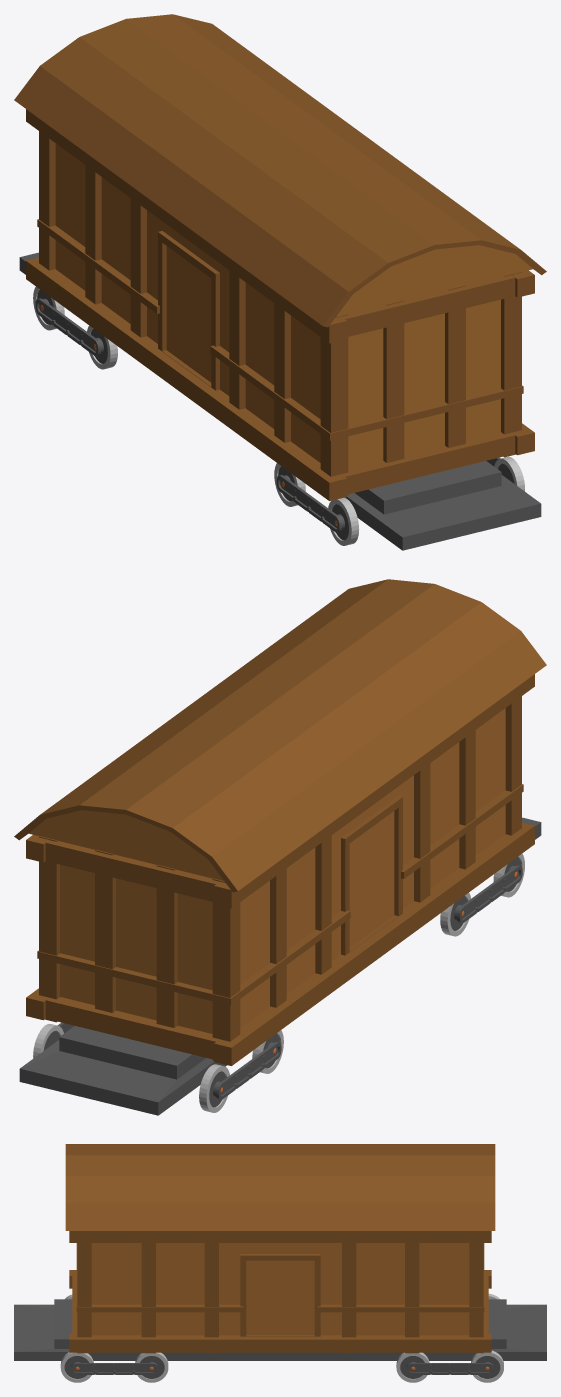
The model's file is pig_container.glb.
3 renders of one model, top to bottom at view 1: azimuth 30°, elevation 25°; view 2: azimuth 150°, elevation 25°; view 3: azimuth 270°, elevation 25°, orthographic. The views are drawn at different scales.
Visible parts, largest first — view 1: PigContainer, Base, WheelConector, Wheel_1, Wheel_5; view 2: PigContainer, Base, WheelConector, Wheel_4, Wheel_0; view 3: PigContainer, Base, WheelConector, Wheel_6, Wheel_3, Wheel_2, Wheel_7.
Boxes of the visible parts, bbox=[...] form: PigContainer: bbox=[14, 14, 546, 500]; Base: bbox=[19, 252, 541, 550]; WheelConector: bbox=[35, 298, 500, 532]; Wheel_1: bbox=[328, 497, 359, 545]; Wheel_5: bbox=[87, 325, 117, 369]; PigContainer: bbox=[14, 579, 546, 1065]; Base: bbox=[19, 817, 541, 1115]; WheelConector: bbox=[57, 865, 522, 1099]; Wheel_4: bbox=[199, 1064, 229, 1112]; Wheel_0: bbox=[440, 893, 470, 936]; PigContainer: bbox=[65, 1144, 495, 1353]; Base: bbox=[14, 1299, 546, 1360]; WheelConector: bbox=[71, 1363, 493, 1374]; Wheel_6: bbox=[471, 1350, 503, 1382]; Wheel_3: bbox=[60, 1352, 93, 1382]; Wheel_2: bbox=[135, 1352, 168, 1382]; Wheel_7: bbox=[396, 1352, 429, 1382].
Bounding box in the file's own units: 3.53 × 4.29 × 10.46.
